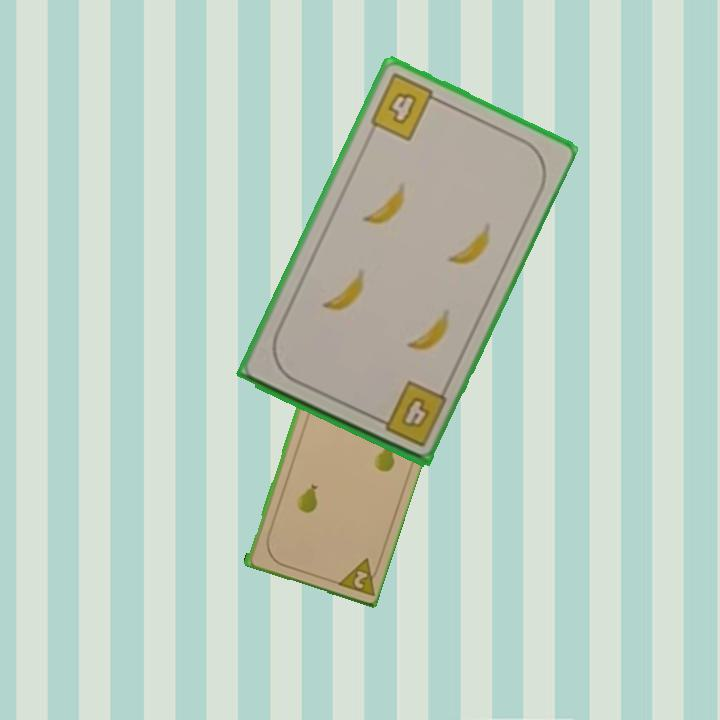2p: (332, 553, 383, 598)
4b: (366, 69, 445, 144), (370, 377, 450, 449)
